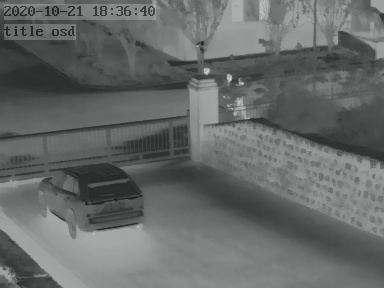vehicle: (47, 161, 146, 237)
